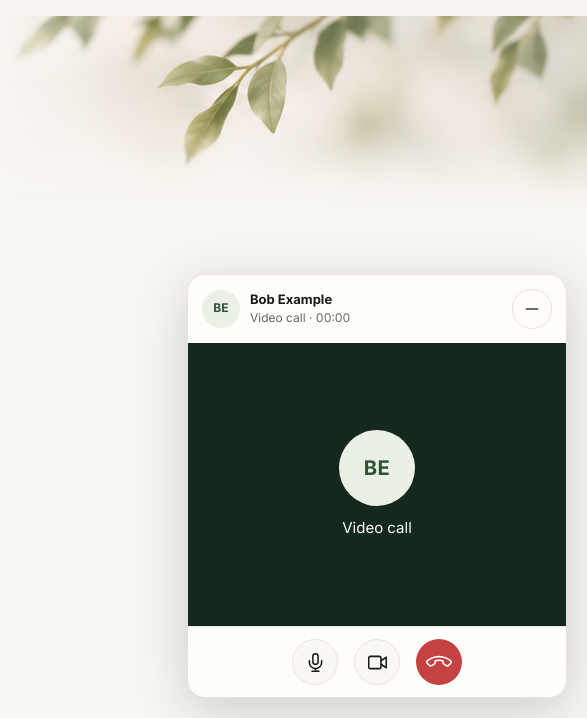
Test case: active call controls remain available when minimized
This screenshot has width=587, height=718.
Later steps or results of the test are not shown.
Click the button named "Mute": {"x": 315, "y": 662} [292,639,338,685]
Click the button named "Camera off": {"x": 377, "y": 662} [354,639,400,685]
Click the button named "Minimize call": {"x": 532, "y": 308} [512,288,552,328]
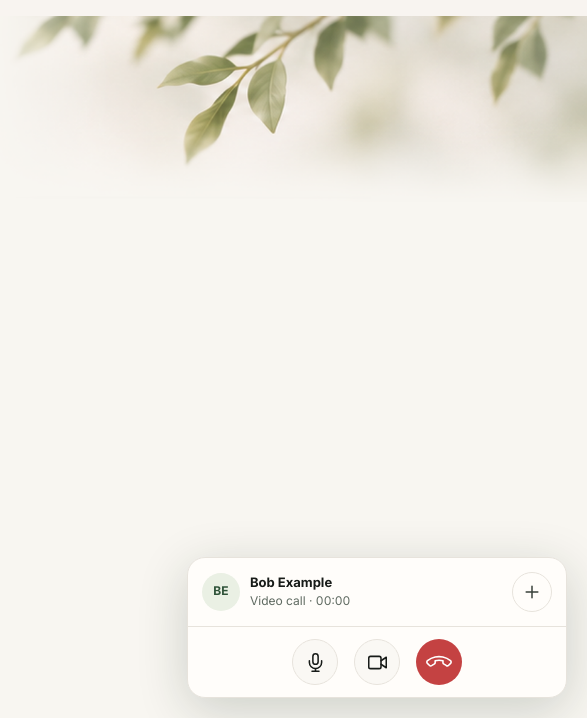
Check: the button named "Expand call" is shown, box [512,572,552,612]
